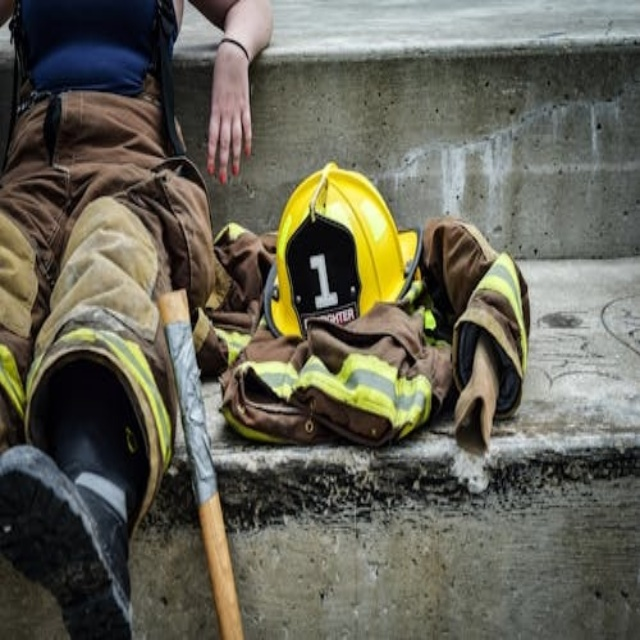Sin_guantes: (206, 49, 256, 185)
